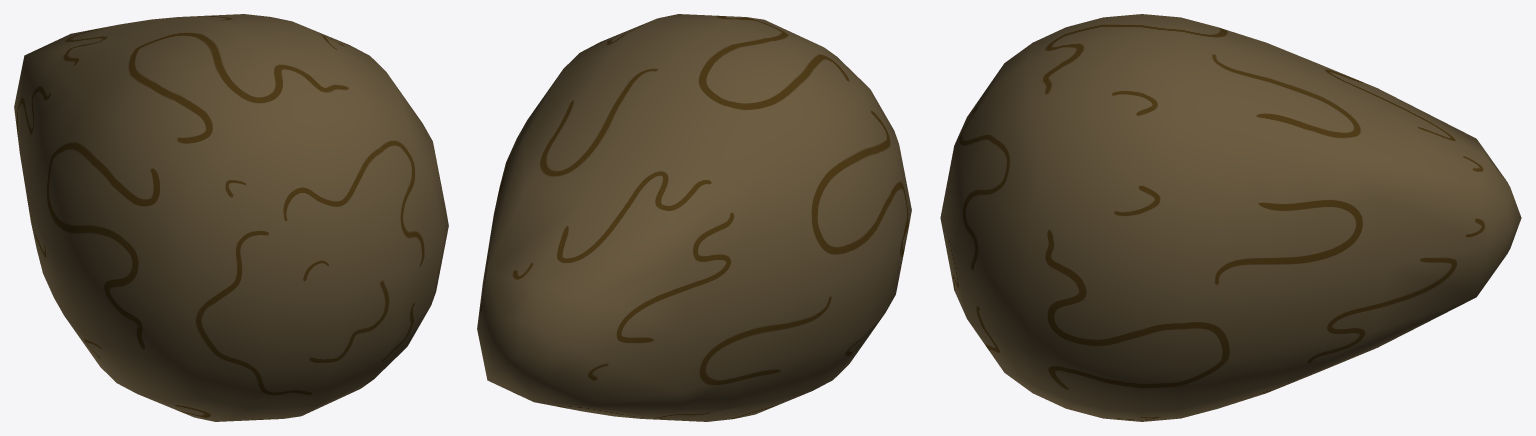
The model's file is mudball (2).fbx.
3 renders of one model, left to right at view 1: azimuth 30°, elevation 25°; view 2: azimuth 150°, elevation 25°; view 3: azimuth 270°, elevation 25°, orthographic.
Parts seen in each view (by area): view 1: Cube; view 2: Cube; view 3: Cube.
Part boxes in pixels (x1,y1,x2,y2): Cube: (14, 14, 448, 421); Cube: (477, 14, 911, 421); Cube: (940, 14, 1521, 421).
Bounding box in the file's own units: 74.32 × 74.32 × 107.
1 material, 1 textured.
